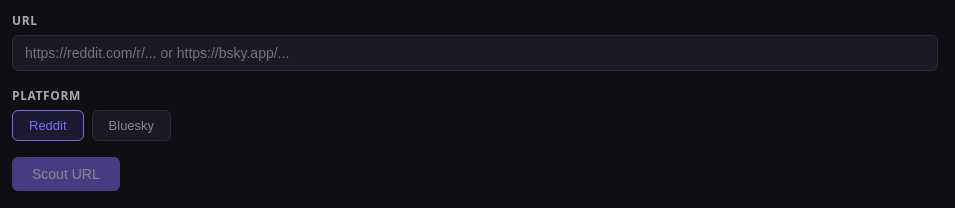
Test: ManualTasker › shows "error" state when API returns error status
The width and height of the screenshot is (955, 208).
Type "https://reddit.com/r/test" into the field labelled "URL" at (475, 53), box [12,35,938,71]
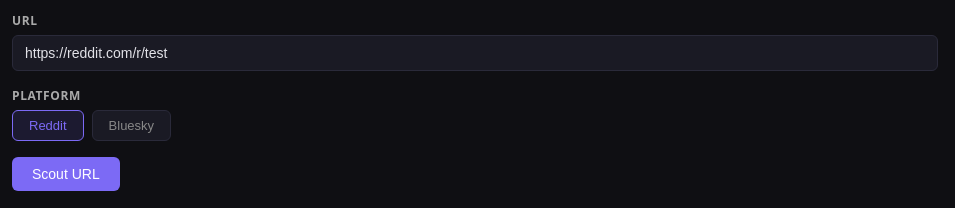
Click the button "Scout URL" at (66, 174), box [12,157,120,191]
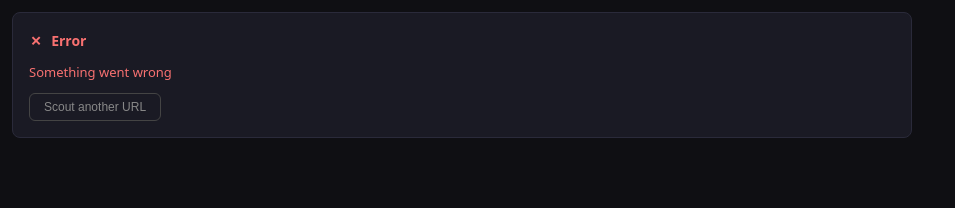
Check: the text "Error" is shown, box [51,30,86,50]
Check: the text "Something went wrong" is shown, box [29,63,172,81]
